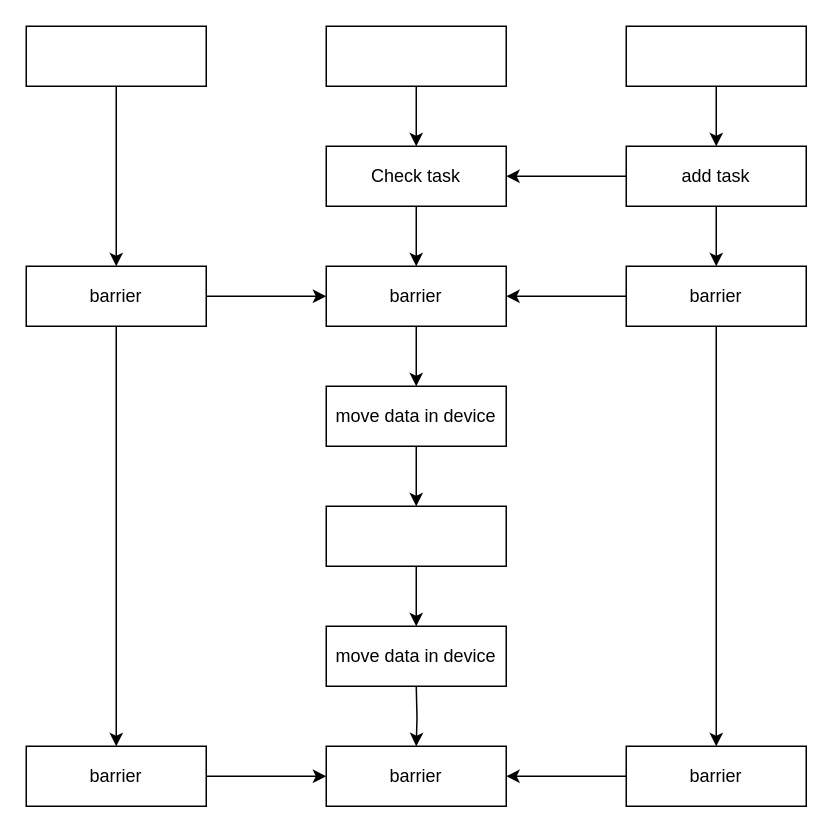
Some shapes in this 833 by 833 pixel diagram are drawn without their labels. Each missing label, with the centre of its shape:
A thread send: pixel 715 55
B thread recv: pixel 115 55
manager thread: pixel 415 55
P2P: pixel 415 535
